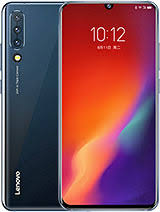lenovo: (1, 1, 158, 212), (56, 1, 158, 211)
